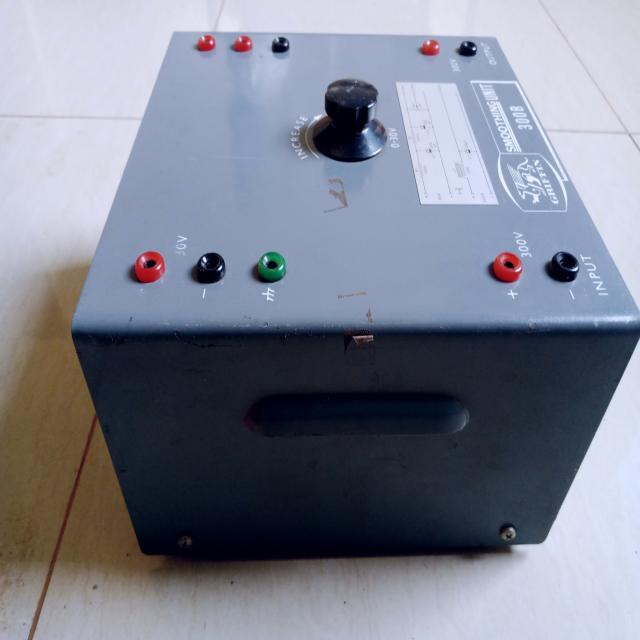Smoothing Unit: (64, 16, 635, 570)
